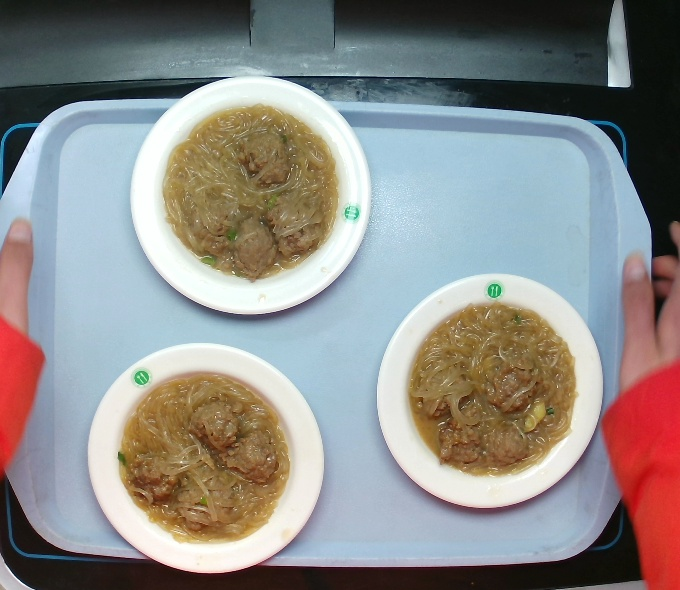wcq-FenSiNiuRouWan: (108, 367, 299, 547), (162, 96, 344, 283), (408, 299, 583, 485)
